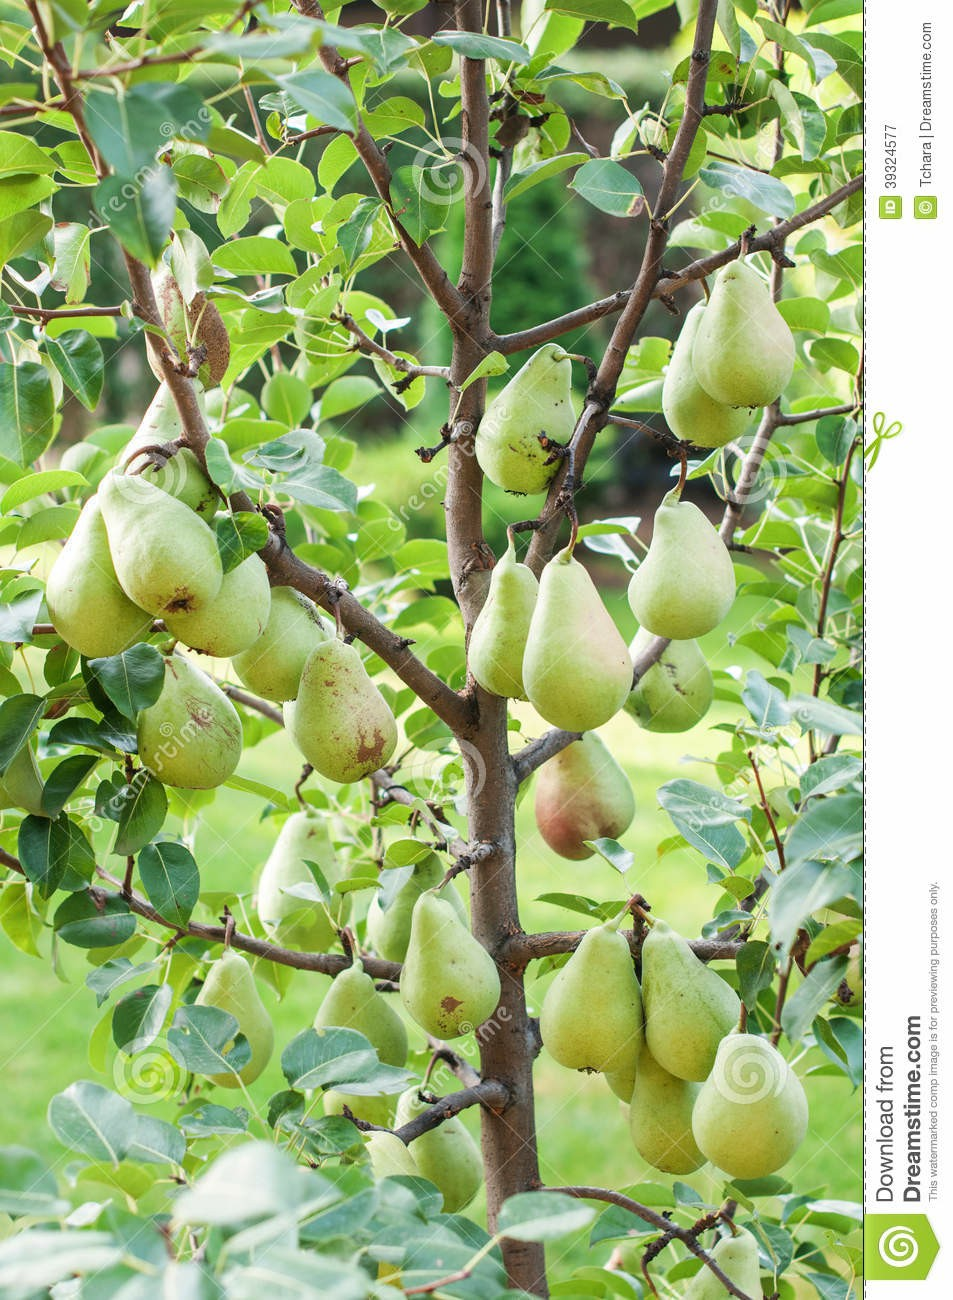pear: (521, 552, 630, 733), (43, 493, 160, 659), (694, 1025, 808, 1182), (99, 473, 223, 617), (541, 914, 646, 1074), (640, 919, 745, 1079), (627, 493, 739, 641), (693, 253, 799, 408), (478, 345, 583, 496), (158, 519, 272, 658), (399, 886, 501, 1040), (292, 640, 398, 785), (138, 650, 244, 789), (529, 726, 638, 860), (229, 579, 341, 702), (256, 807, 349, 955), (661, 301, 752, 449), (385, 1085, 484, 1216), (470, 542, 552, 699), (188, 950, 275, 1087), (365, 871, 469, 985), (631, 1044, 718, 1179), (310, 966, 406, 1084), (624, 615, 715, 738)
